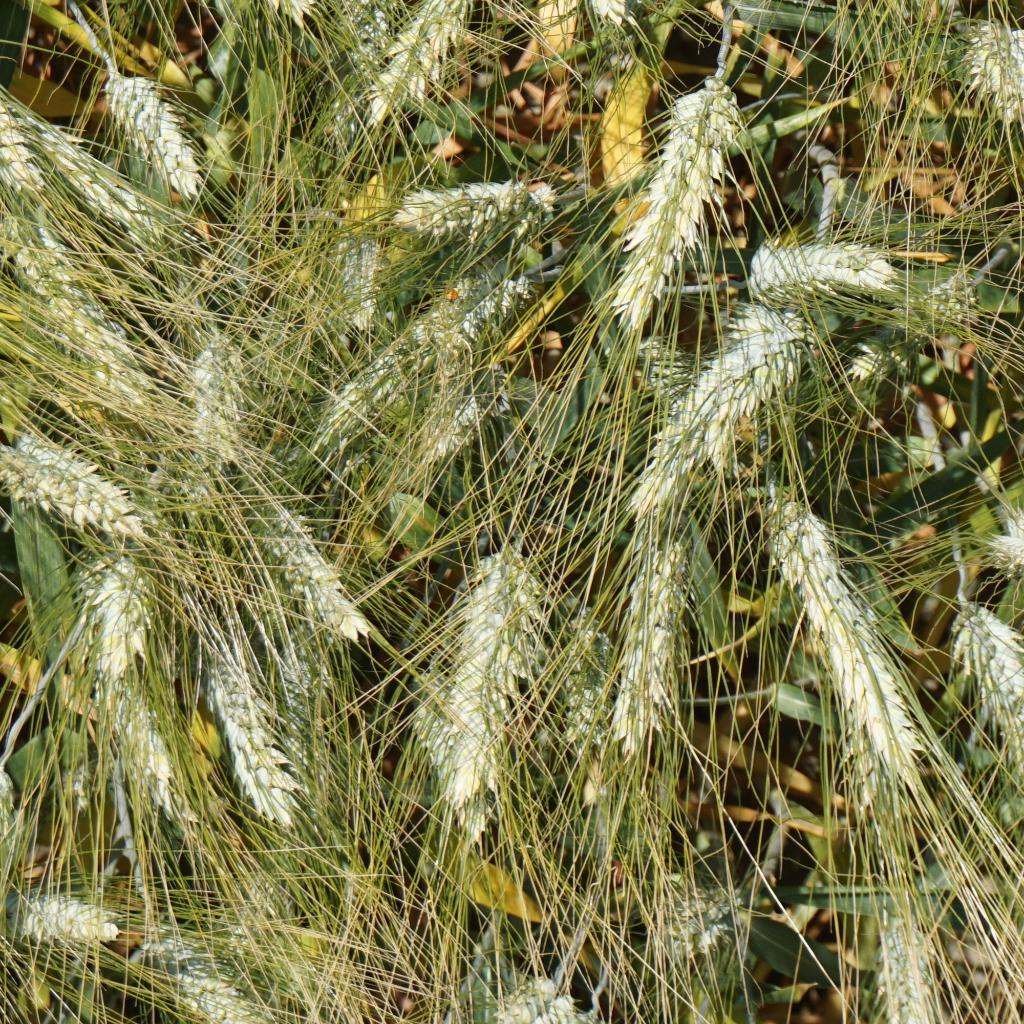0-0: (610, 60, 752, 342), (647, 291, 791, 516), (801, 619, 930, 787), (0, 214, 131, 378), (432, 543, 520, 786), (200, 622, 301, 833), (605, 530, 690, 758), (373, 0, 528, 119), (0, 431, 160, 545), (396, 666, 489, 840), (97, 53, 203, 194), (32, 105, 145, 233), (146, 915, 269, 1024), (165, 330, 252, 473), (269, 510, 366, 637), (99, 675, 188, 811), (68, 553, 162, 679), (759, 499, 855, 620), (276, 647, 350, 800), (950, 596, 1024, 744), (857, 281, 980, 370), (755, 229, 904, 301), (544, 592, 606, 765), (401, 361, 510, 457), (309, 337, 408, 439), (410, 266, 534, 346), (9, 879, 129, 950), (387, 183, 556, 233), (876, 918, 952, 1024), (671, 877, 754, 970), (321, 231, 386, 348), (961, 10, 1024, 124), (0, 10, 33, 192), (231, 875, 294, 954), (634, 320, 688, 406), (329, 0, 402, 62), (883, 0, 970, 47), (492, 964, 551, 1019), (986, 509, 1024, 586), (606, 0, 721, 17), (550, 0, 635, 20), (545, 992, 592, 1024), (0, 875, 16, 935)
